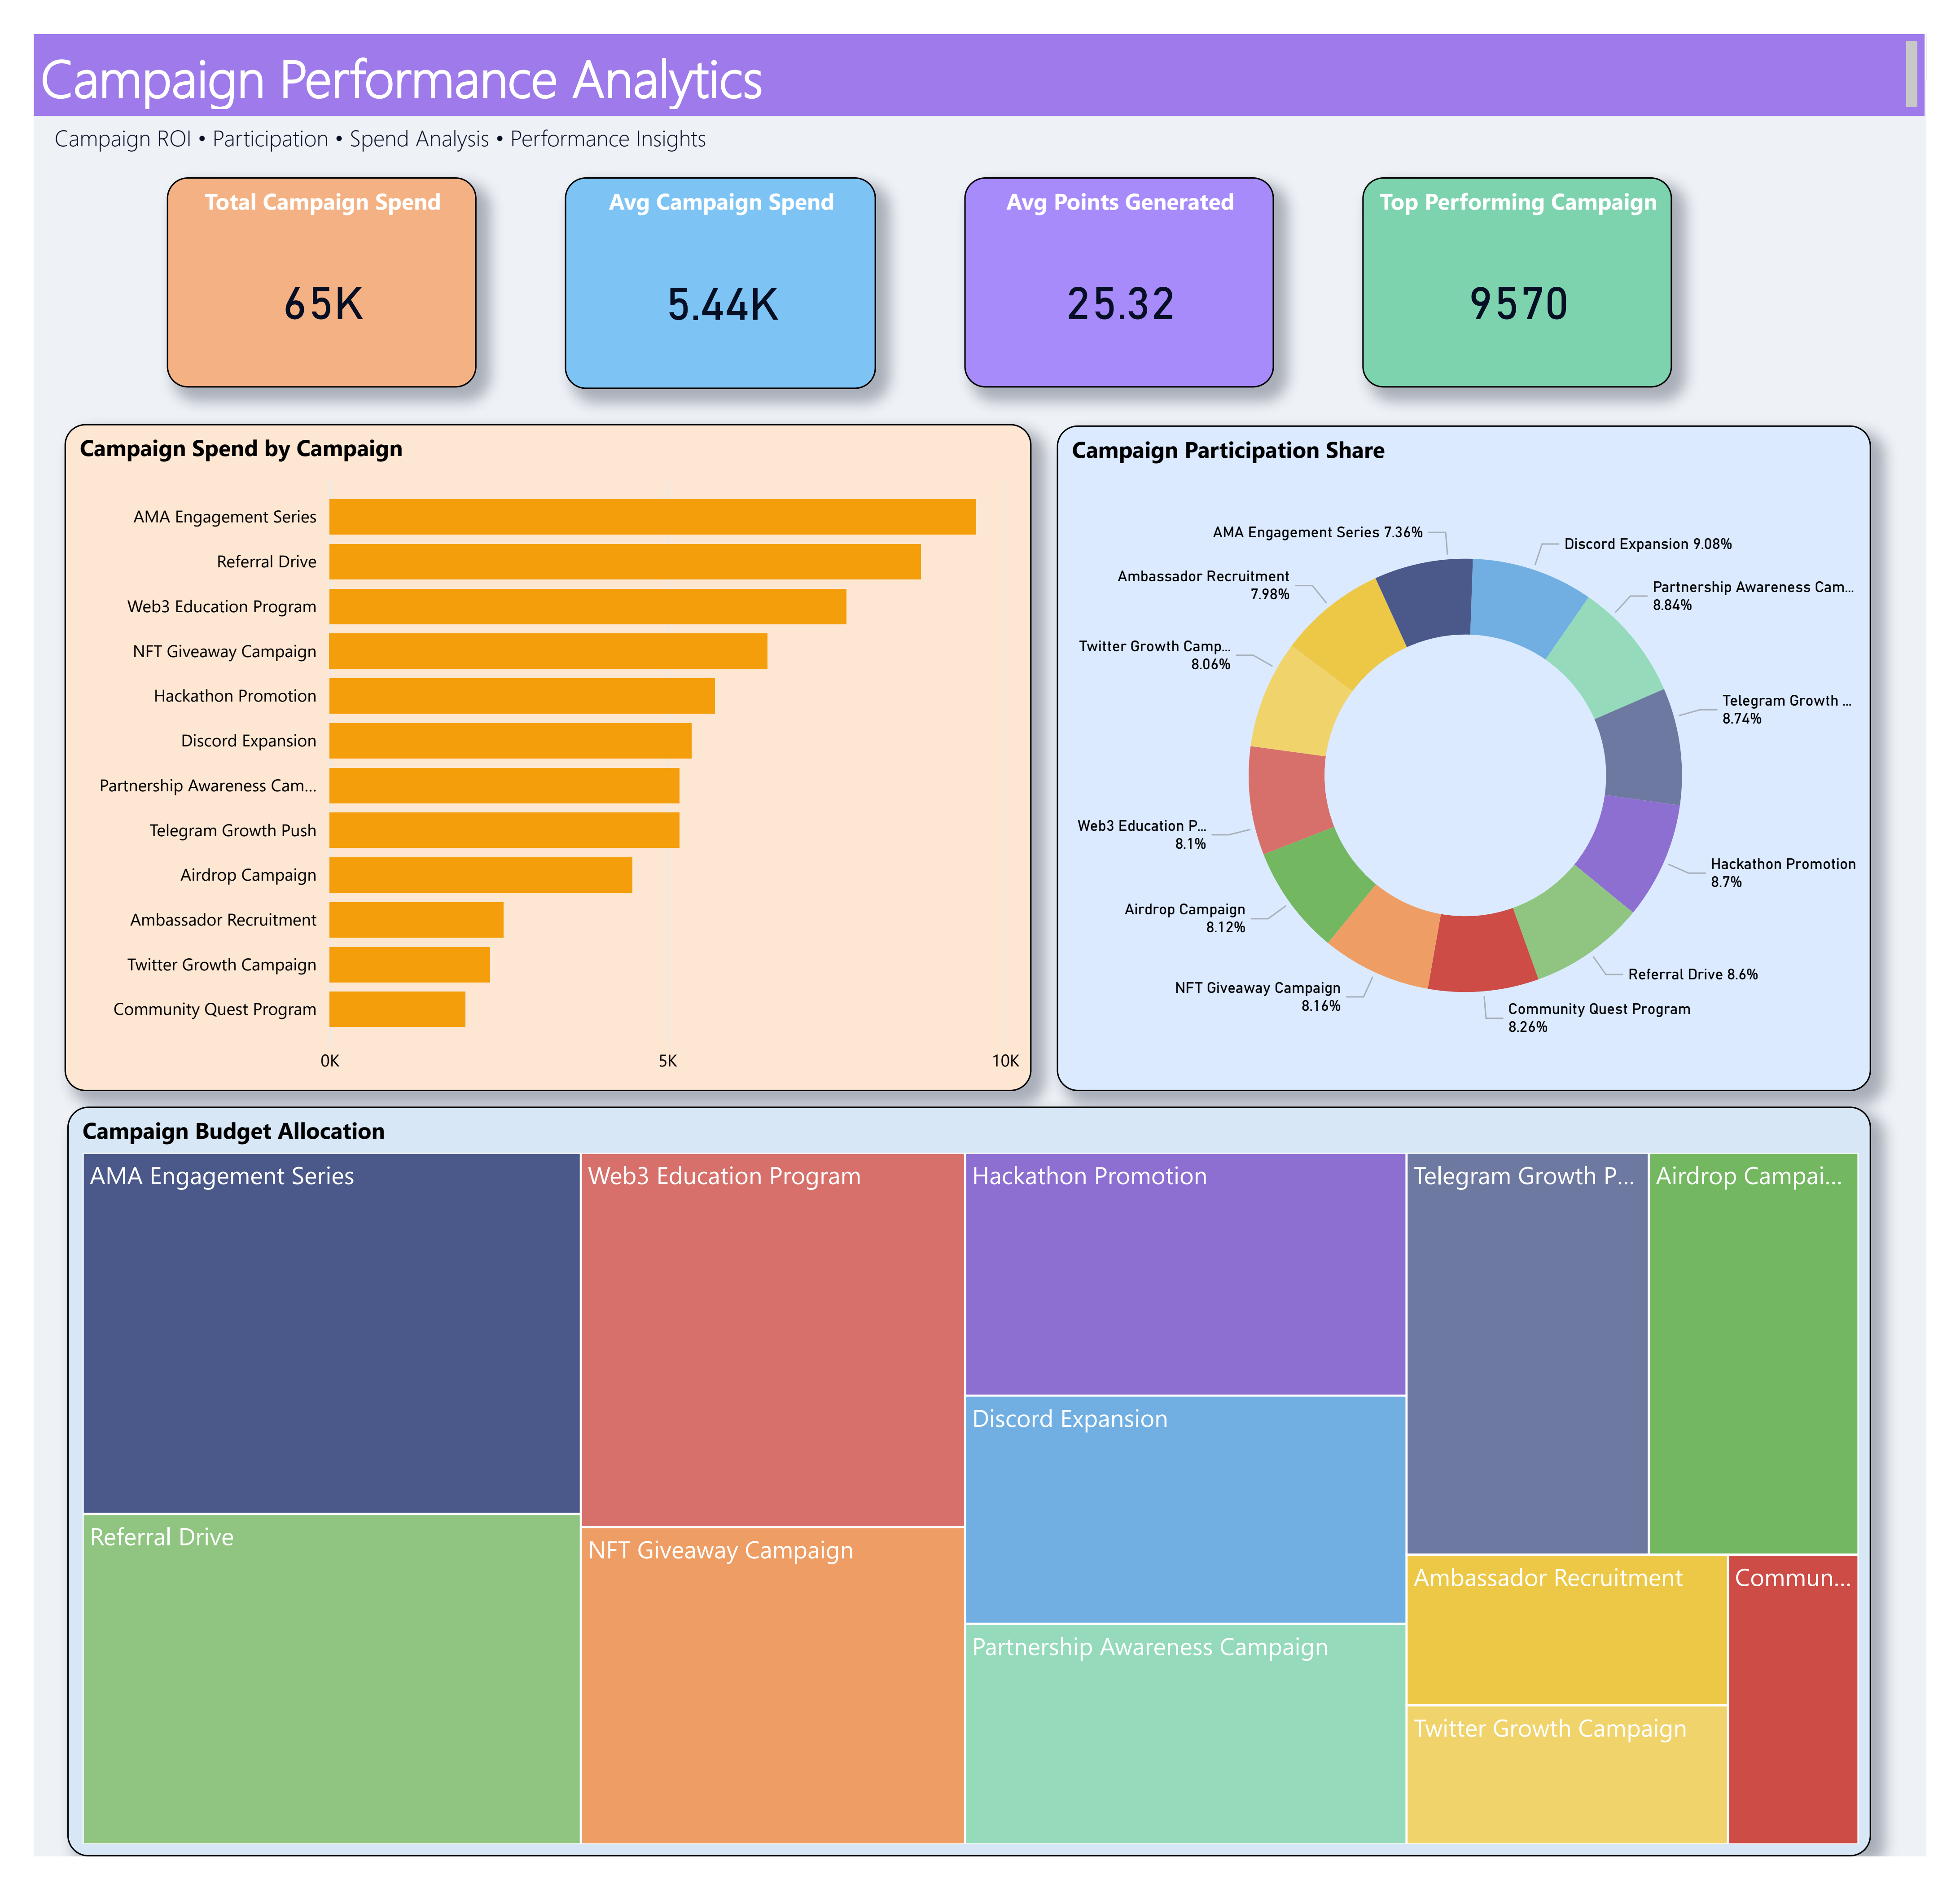

Layout of this report page (visuals, bound fields, positions):
{"tool":"powerbi","page":{"name":"Campaign Performance","canvas":[1350,1300],"ordinal":2},"visuals":[{"type":"textbox","box":[0,0,1349.2,58.3],"z":0},{"type":"textbox","box":[9.7,57.9,1270.4,32.6],"z":1},{"type":"card","title":"Total Campaign Spend","fields":{"Values":["activities.Total Campaign Spend"]},"box":[94.9,102,220.8,149.6],"z":2},{"type":"card","title":"Top Performing Campaign","fields":{"Values":["activities.Top Campaign Spend"]},"box":[947.9,102,220.8,149.6],"z":3},{"type":"card","title":"Avg Points Generated","fields":{"Values":["activities.Avg Points Generated"]},"box":[663.9,102,220.8,149.6],"z":4},{"type":"card","title":"Avg Campaign Spend","fields":{"Values":["activities.Avg Campaign Spend"]},"box":[378.9,102,221.7,150.7],"z":5},{"type":"clusteredBarChart","title":"Campaign Spend by Campaign","fields":{"Category":["campaigns.campaign_name"],"Y":["Sum(campaigns.spend_usd)"]},"box":[21.8,278.2,690.4,475.9],"z":6},{"type":"donutChart","title":"Campaign Participation Share","fields":{"Category":["campaigns.campaign_name"],"Y":["CountNonNull(user_campaigns.user_id)"]},"box":[729.7,278.8,581.6,474.9],"z":7},{"type":"treemap","title":"Campaign Budget Allocation","fields":{"Group":["campaigns.campaign_name"],"Values":["Sum(campaigns.spend_usd)"]},"box":[24,764.6,1287.4,535.9],"z":8}]}

Visuals, with their boxes in screenshot pixels (x1, y1, x2, y2), scaled from the page's 1350x1300 canvas onto the 1960x1891 screenshot:
textbox: box=[0, 0, 1959, 85]
textbox: box=[14, 84, 1859, 132]
"Total Campaign Spend" card: box=[138, 149, 458, 366]
"Top Performing Campaign" card: box=[1376, 149, 1697, 366]
"Avg Points Generated" card: box=[964, 149, 1285, 366]
"Avg Campaign Spend" card: box=[550, 149, 872, 368]
"Campaign Spend by Campaign" clusteredBarChart: box=[32, 405, 1034, 1097]
"Campaign Participation Share" donutChart: box=[1059, 406, 1904, 1097]
"Campaign Budget Allocation" treemap: box=[35, 1112, 1904, 1891]
